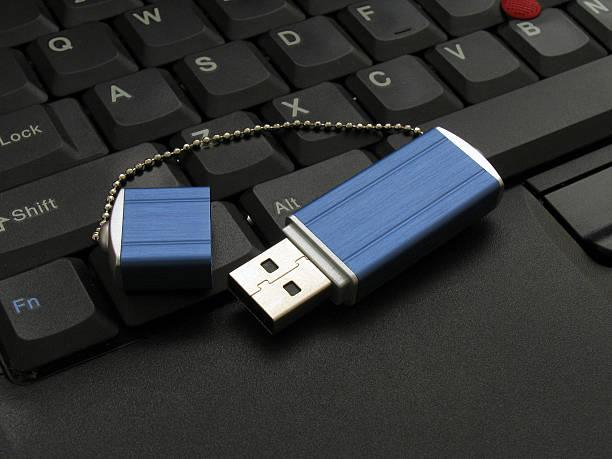USB Flash Drive: (228, 127, 505, 335)
